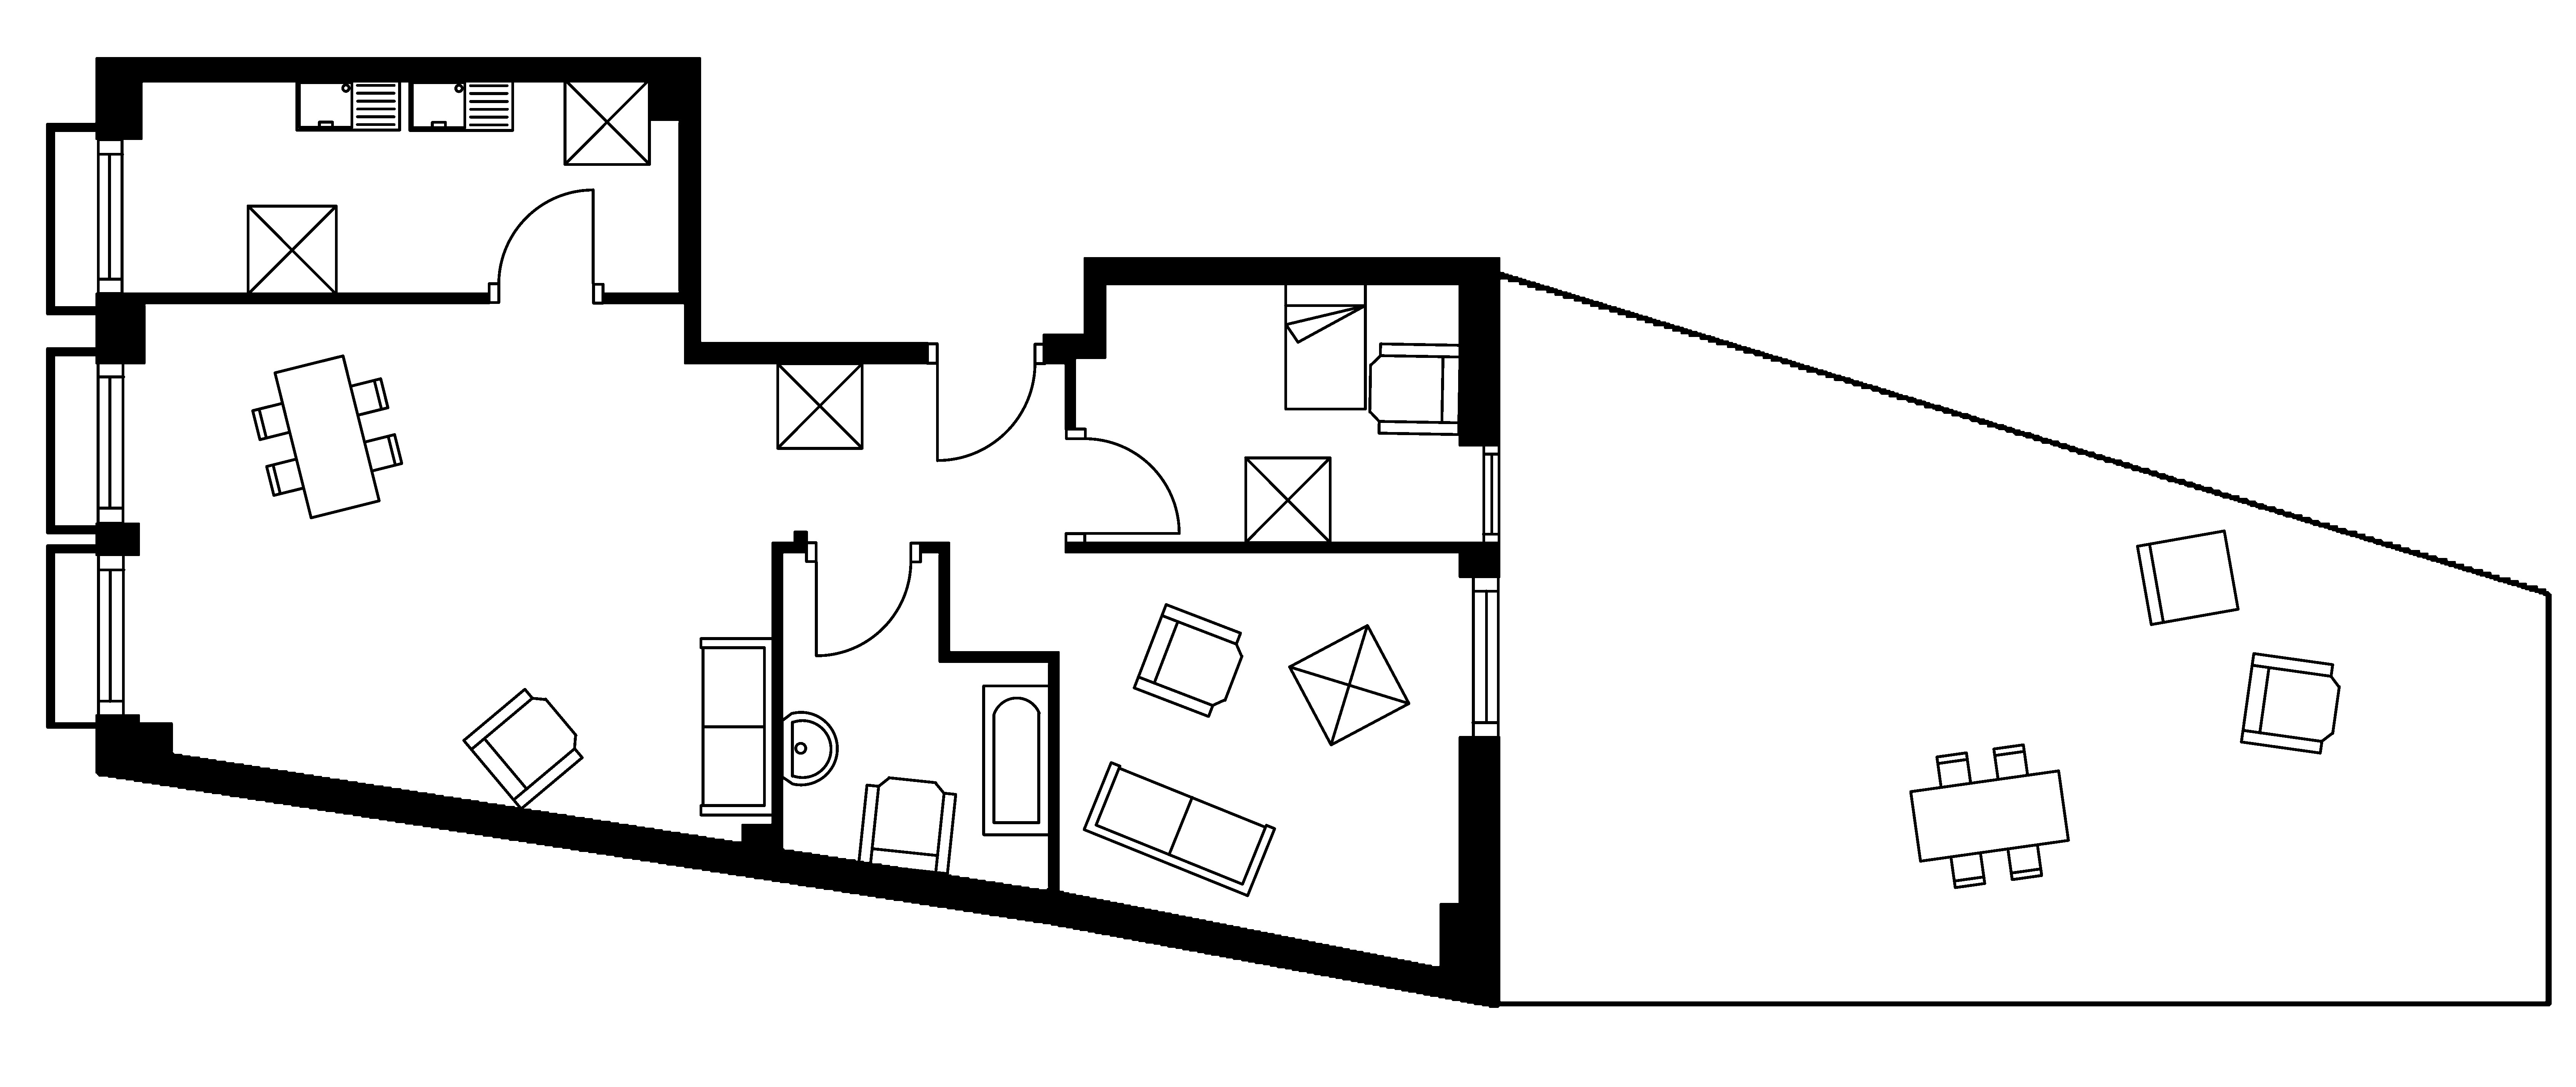armchair: (462, 687, 583, 811), (1132, 602, 1244, 719), (2239, 651, 2341, 755), (856, 776, 958, 875), (1367, 342, 1462, 436)
bed: (1283, 281, 1367, 411)
coffee_table: (1286, 623, 1411, 747), (246, 204, 338, 296), (562, 77, 651, 166), (775, 362, 864, 451), (1244, 456, 1332, 544)
dining_table: (251, 354, 404, 520), (1909, 743, 2070, 890)
large_sofa: (1081, 760, 1276, 898), (698, 636, 774, 817)
sink: (294, 77, 401, 132), (407, 77, 514, 132)
small_sink: (780, 710, 838, 786)
small_sofa: (2136, 528, 2239, 627)
tub: (981, 684, 1051, 837)
